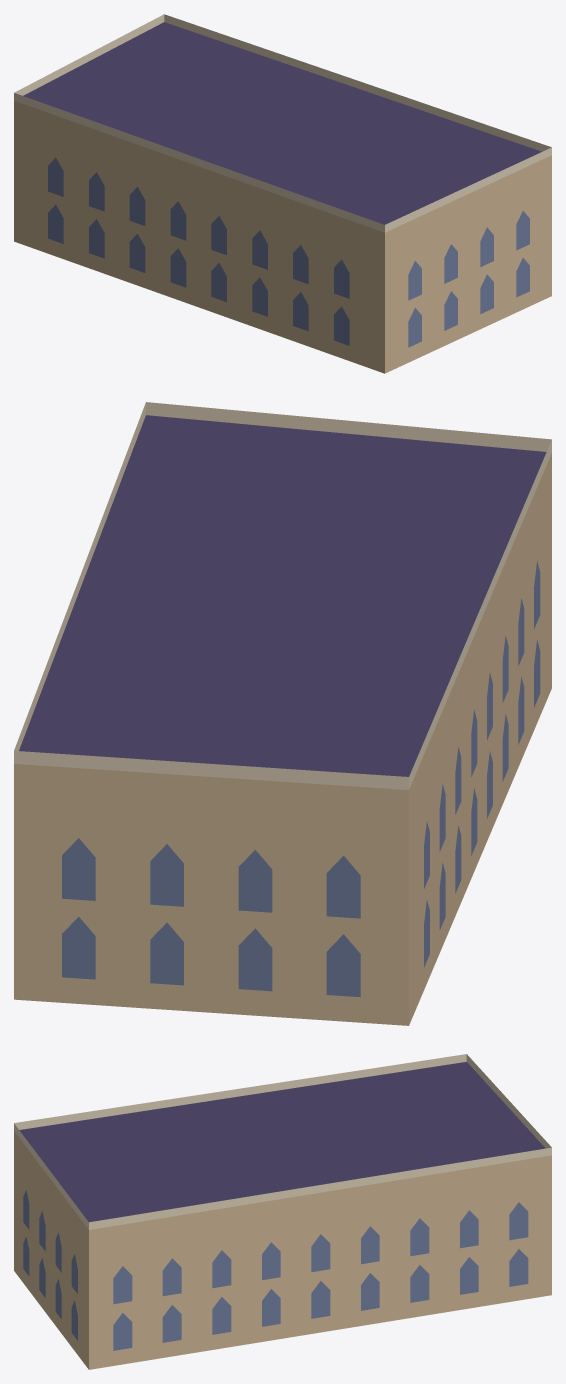
Rendered from b-034-day.glb.
The picture shows the model from 3 angles, top to bottom: view 1: azimuth 30°, elevation 25°; view 2: azimuth 150°, elevation 25°; view 3: azimuth 270°, elevation 25°; orthographic projection. The views are drawn at different scales.
Visible parts, largest first — view 1: campus/b-034-day-0; view 2: campus/b-034-day-0; view 3: campus/b-034-day-0.
Part boxes in pixels (bbox=[...]): campus/b-034-day-0: bbox=[14, 14, 551, 373]; campus/b-034-day-0: bbox=[14, 402, 551, 1025]; campus/b-034-day-0: bbox=[14, 1054, 551, 1369].
Size of the model in its own units: 25.55 by 10.45 by 34.51.
